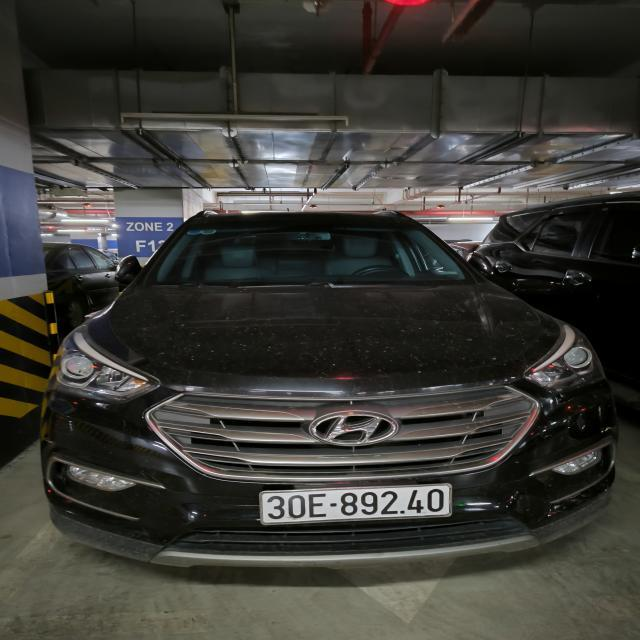license: (258, 482, 453, 525)
